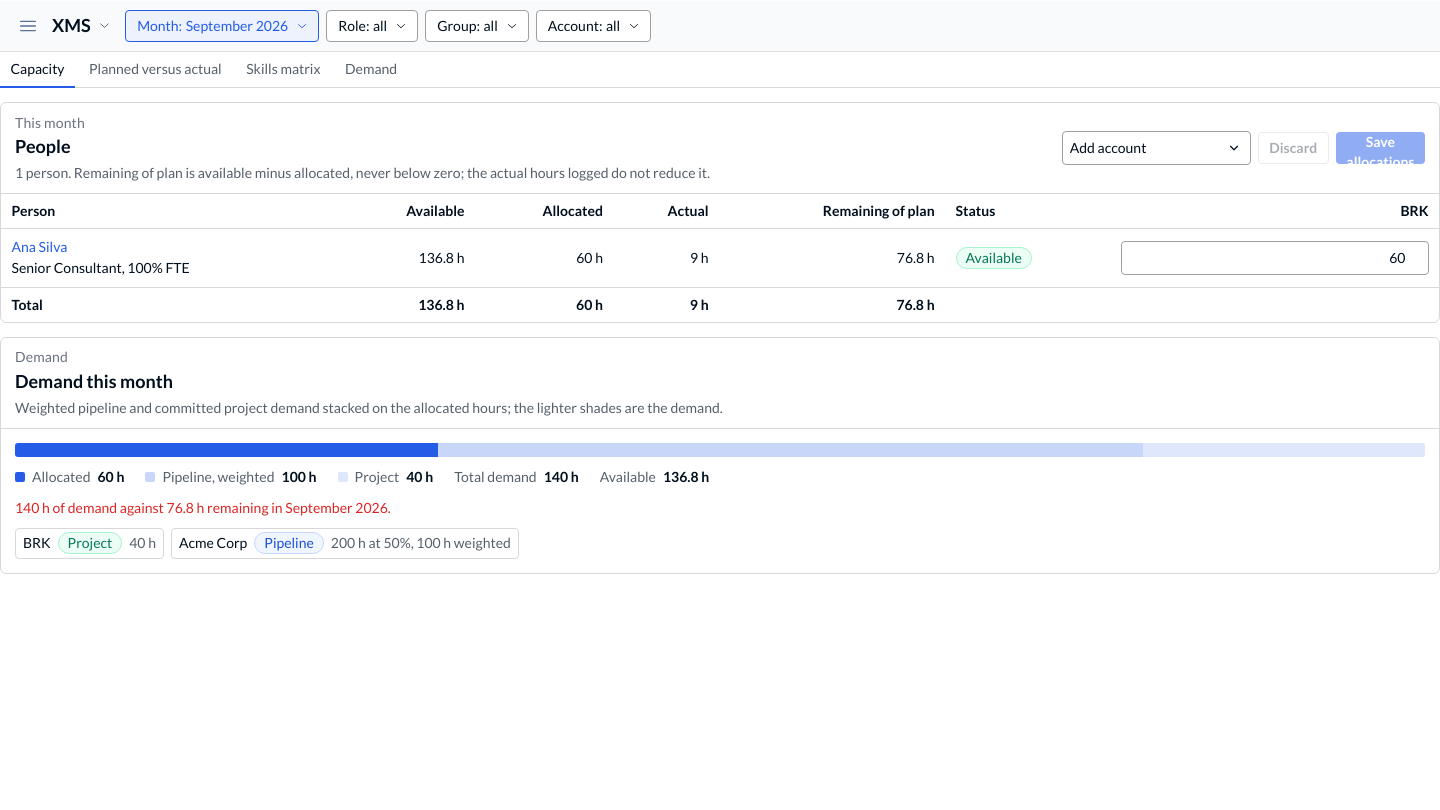
Test: CapacityPage › words stale_version, drops the drafts and reloads the month
The image size is (1440, 810).
Expected: the column heading "BRK" is shown, [1111,194,1439,228]
Replace the text in the number field named "Ana Silva on BRK" with "80" at (1275, 258), box [1121,241,1428,275]
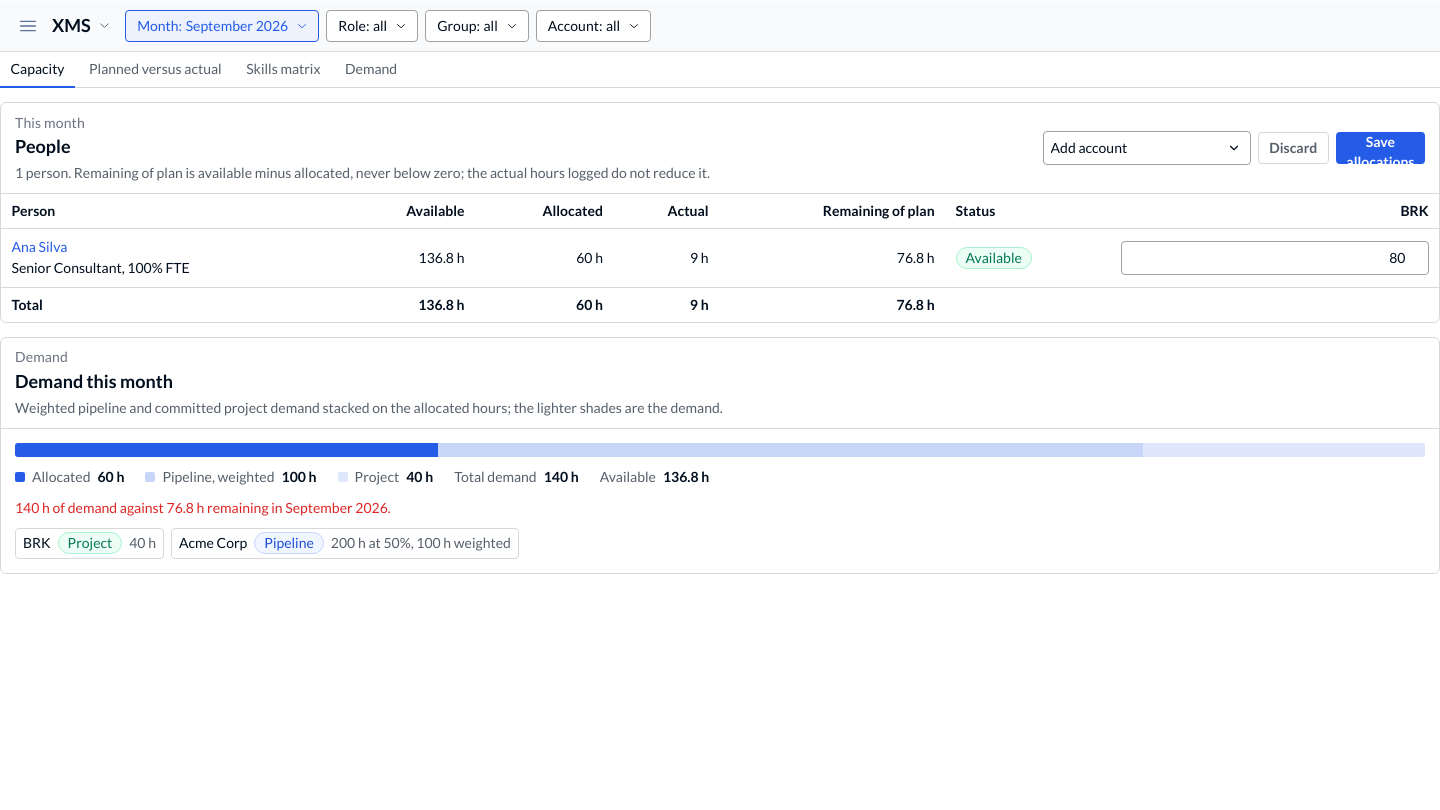
Click the button "Save allocations (1)".
click(1380, 148)  # box [1336,132,1425,164]
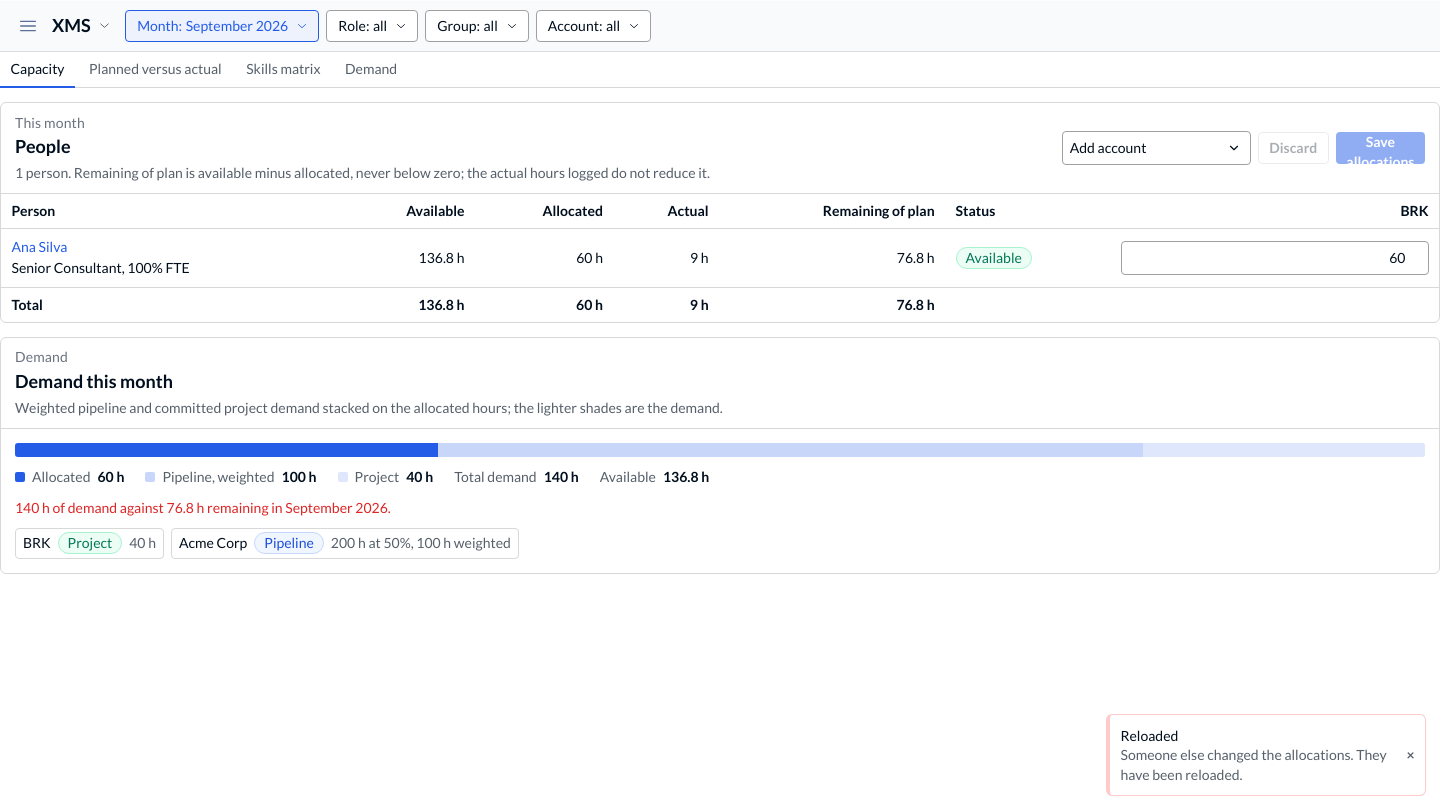
Now the text "Reloaded" is shown, box [1120,727,1178,744]
Now the text "Someone else changed the allocations. They have been reloaded." is shown, box [1120,745,1396,784]
Now the number field named "Ana Silva on BRK" holds "60", box [1121,241,1428,275]
